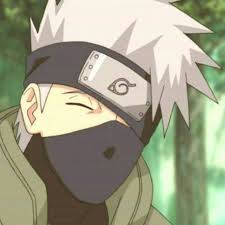kakashi: (19, 40, 175, 206)
